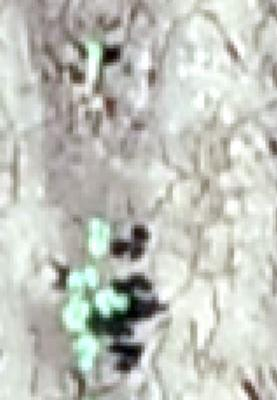cotton: (73, 336, 103, 372), (61, 297, 89, 328), (95, 290, 126, 315), (65, 271, 100, 289), (90, 219, 109, 252), (88, 43, 101, 60)
